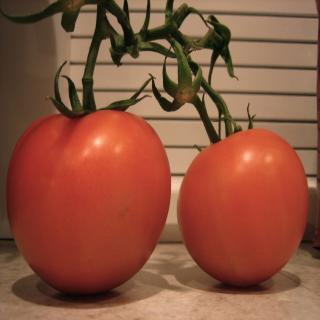tomato: (7, 61, 171, 300), (177, 103, 310, 287)
